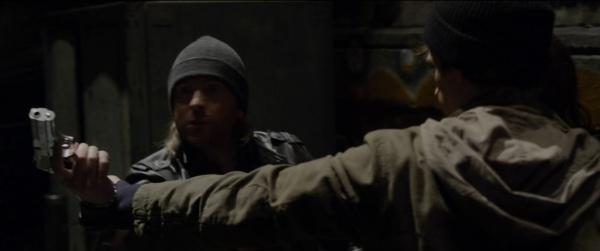Gun: (29, 108, 76, 174)
